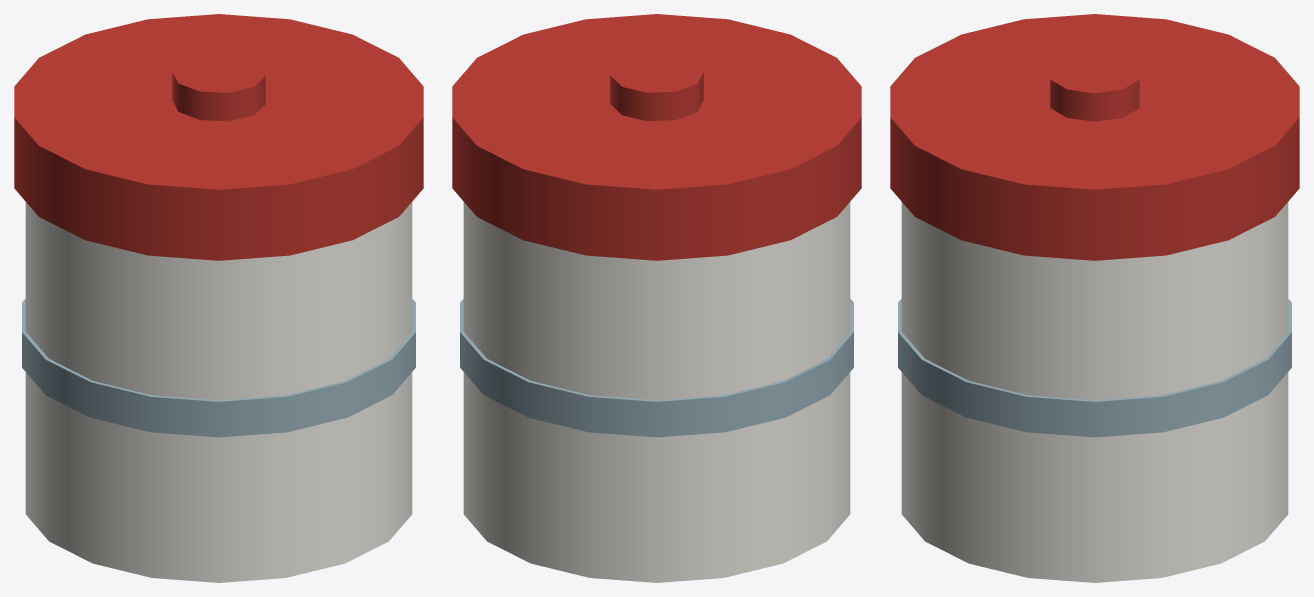
File: sugar_jar.glb
The picture shows the model from 3 angles, left to right: view 1: azimuth 30°, elevation 25°; view 2: azimuth 150°, elevation 25°; view 3: azimuth 270°, elevation 25°; orthographic projection.
Visible parts, largest first — view 1: sugar_jar; view 2: sugar_jar; view 3: sugar_jar.
Boxes of the visible parts, box(x1,y1,x2,y2) form: sugar_jar: box(14, 14, 423, 582); sugar_jar: box(452, 14, 861, 582); sugar_jar: box(890, 14, 1299, 582).
Bounding box in the file's own units: 0.53 × 0.6 × 0.5219.
